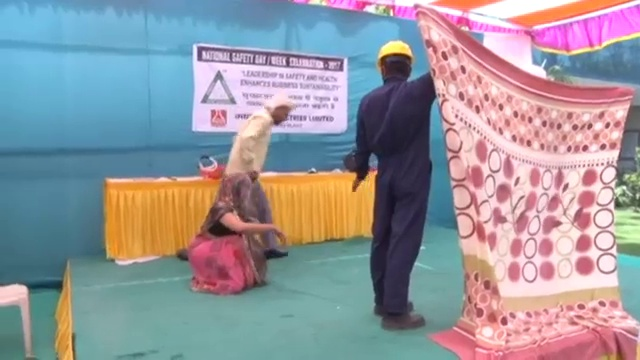helmet: (377, 38, 414, 71)
helmet_off: (265, 94, 297, 130), (223, 169, 251, 198)
helmet_on: (376, 37, 415, 86)
person: (345, 37, 437, 331), (189, 169, 284, 297), (224, 94, 293, 258)
